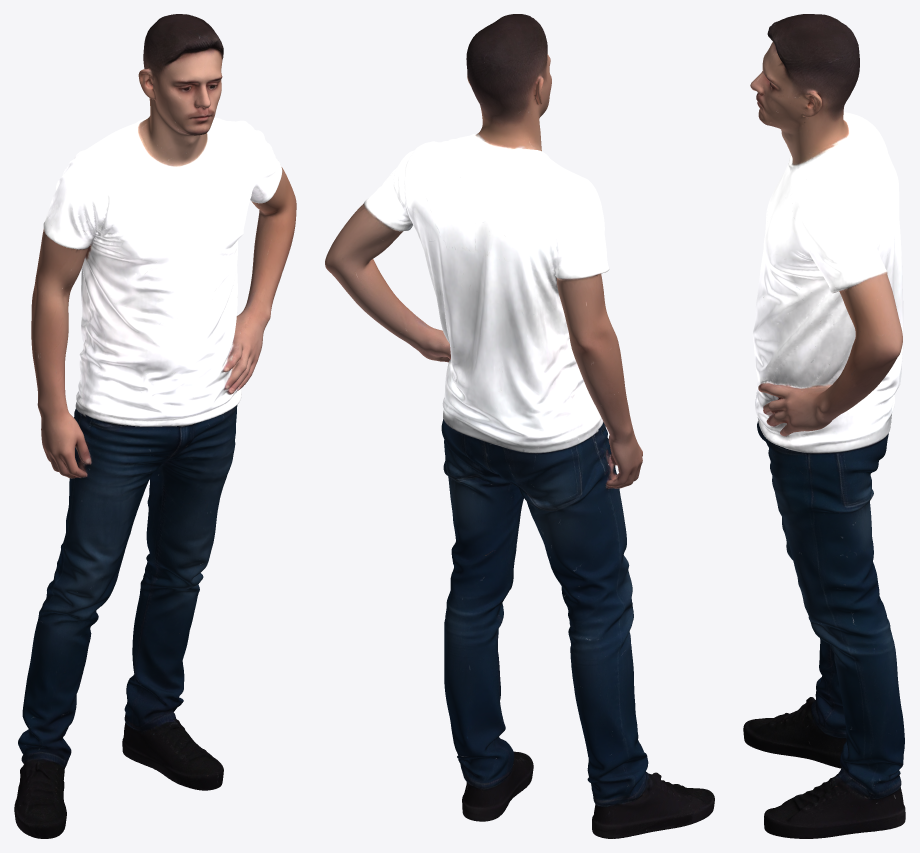
Rendered from casual confidence (41)-a_vz726f.glb.
The picture shows the model from 3 angles, left to right: view 1: azimuth 30°, elevation 25°; view 2: azimuth 150°, elevation 25°; view 3: azimuth 270°, elevation 25°; orthographic projection. The views are drawn at different scales.
Visible parts, largest first — view 1: mesh_0; view 2: mesh_0; view 3: mesh_0.
Boxes of the visible parts, left/top/right/bottom form: mesh_0: left=14, top=14, right=296, bottom=838; mesh_0: left=325, top=14, right=714, bottom=838; mesh_0: left=743, top=14, right=905, bottom=838.
Size of the model in its own units: 0.85 by 1.9 by 0.3459.
1 material, 1 textured.
